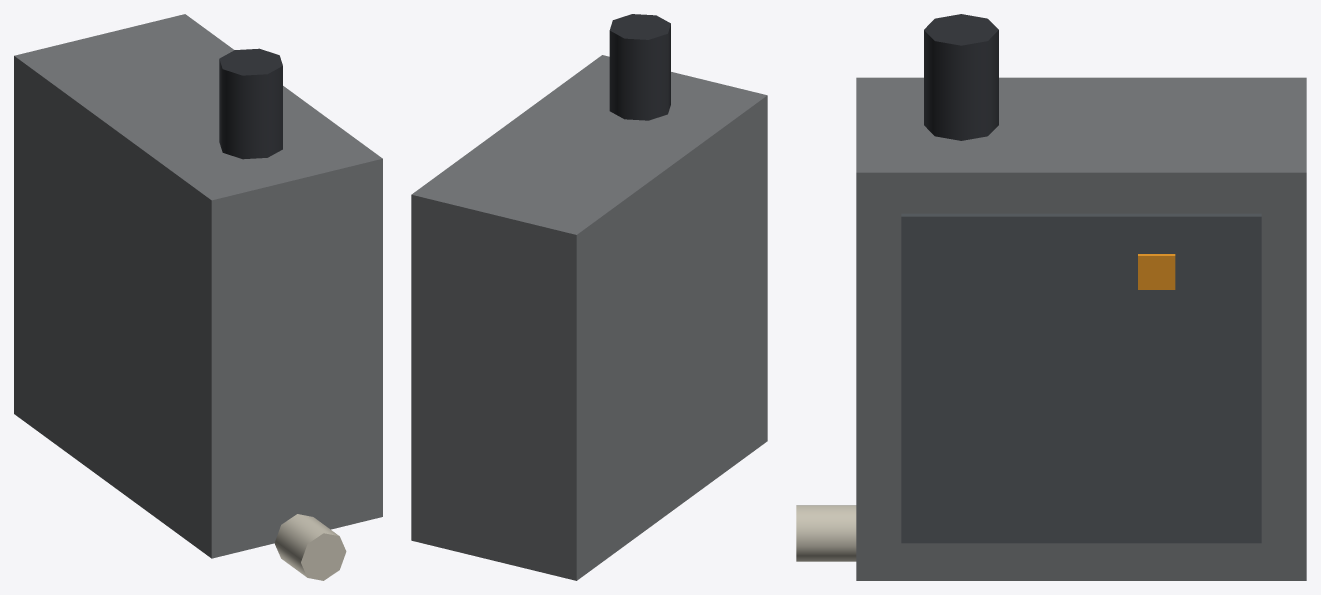
The model's file is fcrcs_driver.obj.
3 renders of one model, left to right at view 1: azimuth 30°, elevation 25°; view 2: azimuth 150°, elevation 25°; view 3: azimuth 270°, elevation 25°, orthographic. The views are drawn at different scales.
Visible parts, largest first — view 1: fcrcs_driver; view 2: fcrcs_driver; view 3: fcrcs_driver.
Part boxes in pixels (x1,y1,x2,y2): fcrcs_driver: (14,14,382,580); fcrcs_driver: (411,14,767,580); fcrcs_driver: (796,14,1306,580).
Bounding box in the file's own units: 0.158 × 0.39 × 0.34.
